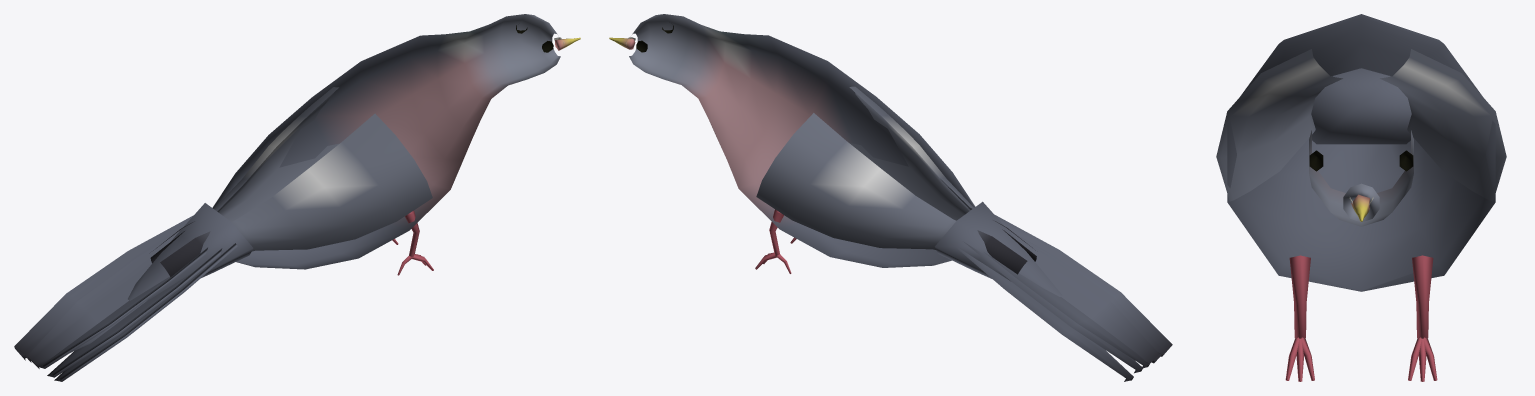
File: SM_Bird_wood_pigeon_perch_LOD1.glb
3 renders of one model, left to right at view 1: azimuth 30°, elevation 25°; view 2: azimuth 150°, elevation 25°; view 3: azimuth 270°, elevation 25°, orthographic. The views are drawn at different scales.
Visible parts, largest first — view 1: SM_Bird_wood_pigeon_perch_LOD1; view 2: SM_Bird_wood_pigeon_perch_LOD1; view 3: SM_Bird_wood_pigeon_perch_LOD1.
Boxes of the visible parts, box(x1,y1,x2,y2) form: SM_Bird_wood_pigeon_perch_LOD1: box(14, 14, 580, 381); SM_Bird_wood_pigeon_perch_LOD1: box(609, 14, 1172, 381); SM_Bird_wood_pigeon_perch_LOD1: box(1216, 14, 1506, 381).
Bounding box in the file's own units: 0.4299 × 0.1795 × 0.1262.
